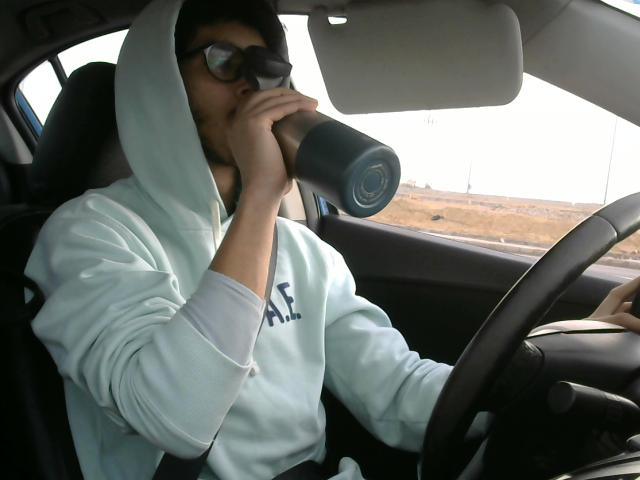Drinking: (180, 17, 402, 219)
